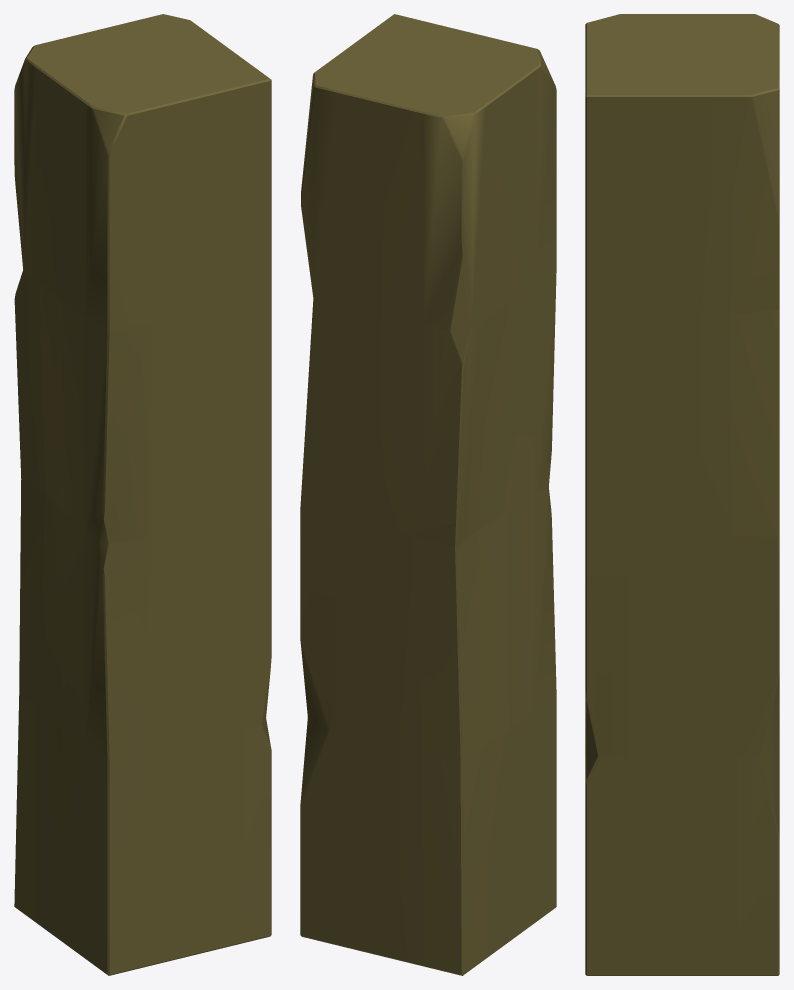
The model's file is pillar.fbx.
3 renders of one model, left to right at view 1: azimuth 30°, elevation 25°; view 2: azimuth 150°, elevation 25°; view 3: azimuth 270°, elevation 25°, orthographic. The views are drawn at different scales.
Visible parts, largest first — view 1: Pillar; view 2: Pillar; view 3: Pillar.
Part boxes in pixels (x1=…): Pillar: x1=14, y1=14, x2=271, y2=975; Pillar: x1=300, y1=14, x2=556, y2=975; Pillar: x1=585, y1=14, x2=779, y2=975.
Bounding box in the file's own units: 115 × 576 × 115.
